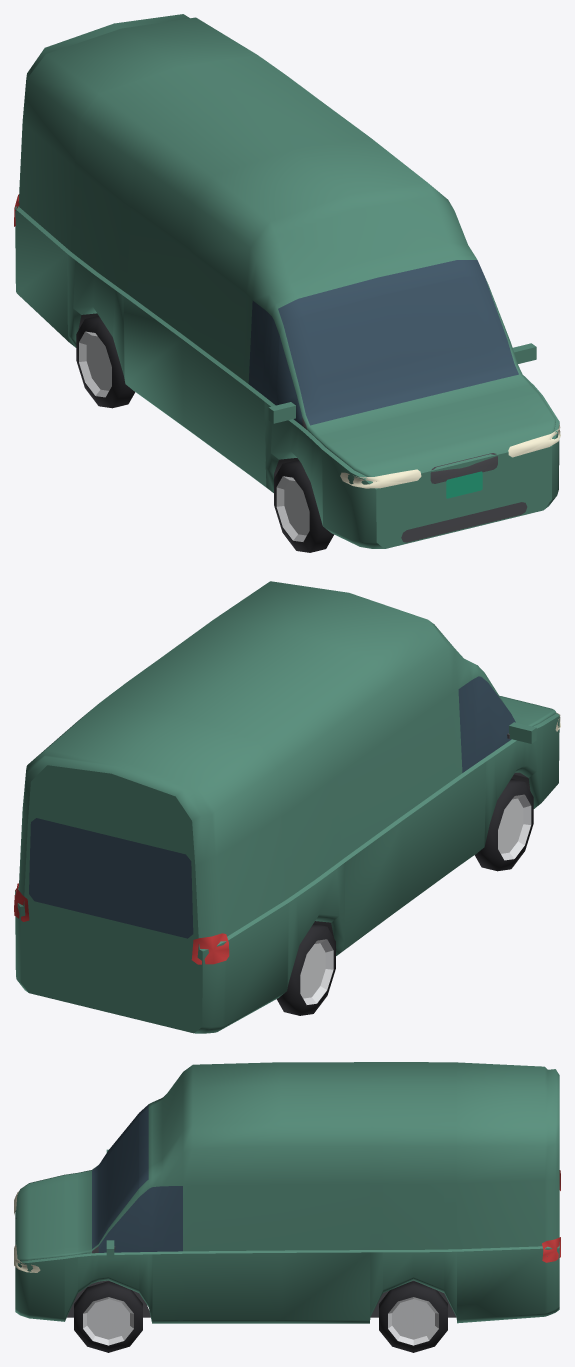
The picture shows the model from 3 angles, top to bottom: view 1: azimuth 30°, elevation 25°; view 2: azimuth 150°, elevation 25°; view 3: azimuth 270°, elevation 25°; orthographic projection. The views are drawn at different scales.
Parts seen in each view (by area): view 1: 13_1; view 2: 13_1; view 3: 13_1.
Boxes of the visible parts, left/top/right/bottom form: 13_1: left=14, top=14, right=560, bottom=552; 13_1: left=14, top=581, right=560, bottom=1033; 13_1: left=14, top=1062, right=560, bottom=1352.
Size of the model in its own units: 2.39 by 2.55 by 5.58.
